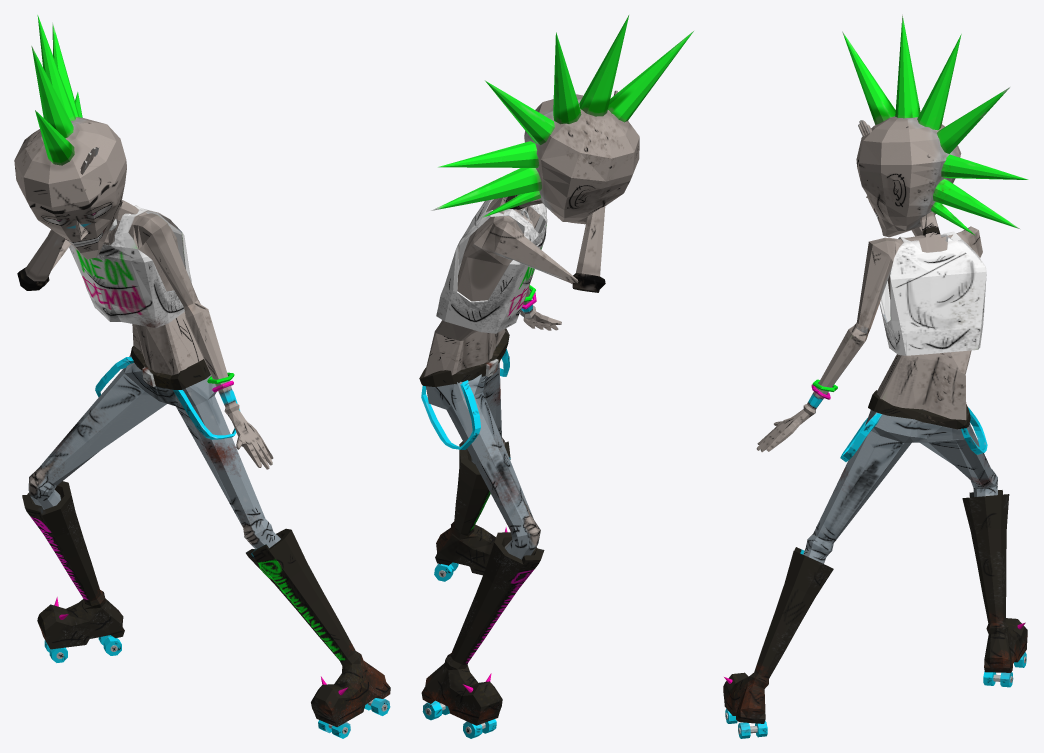
Rendered from punkAnimation_000053.obj.
3 views of the same model, side by side, from view 1: azimuth 30°, elevation 25°; view 2: azimuth 150°, elevation 25°; view 3: azimuth 270°, elevation 25° (orthographic). The views are drawn at different scales.
Parts seen in each view (by area): view 1: Cube.004_Cube.003; view 2: Cube.004_Cube.003; view 3: Cube.004_Cube.003.
Boxes of the visible parts, bbox=[...] form: Cube.004_Cube.003: bbox=[14, 15, 390, 738]; Cube.004_Cube.003: bbox=[419, 15, 693, 738]; Cube.004_Cube.003: bbox=[723, 14, 1028, 738].
Bounding box in the file's own units: 3.12 × 6.72 × 3.04.
